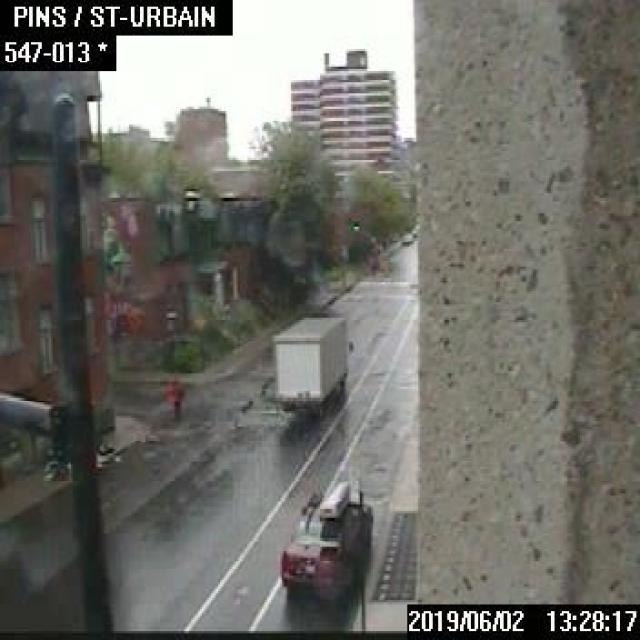pedestrian: (171, 382, 183, 422)
vehicle: (276, 476, 373, 602), (271, 312, 347, 418)
